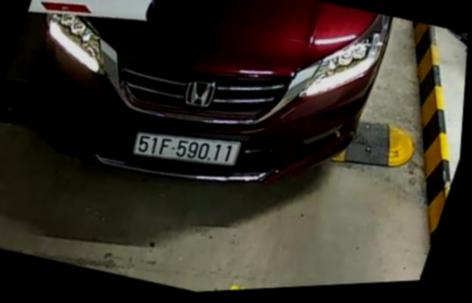License_Plate: (126, 120, 249, 179)
